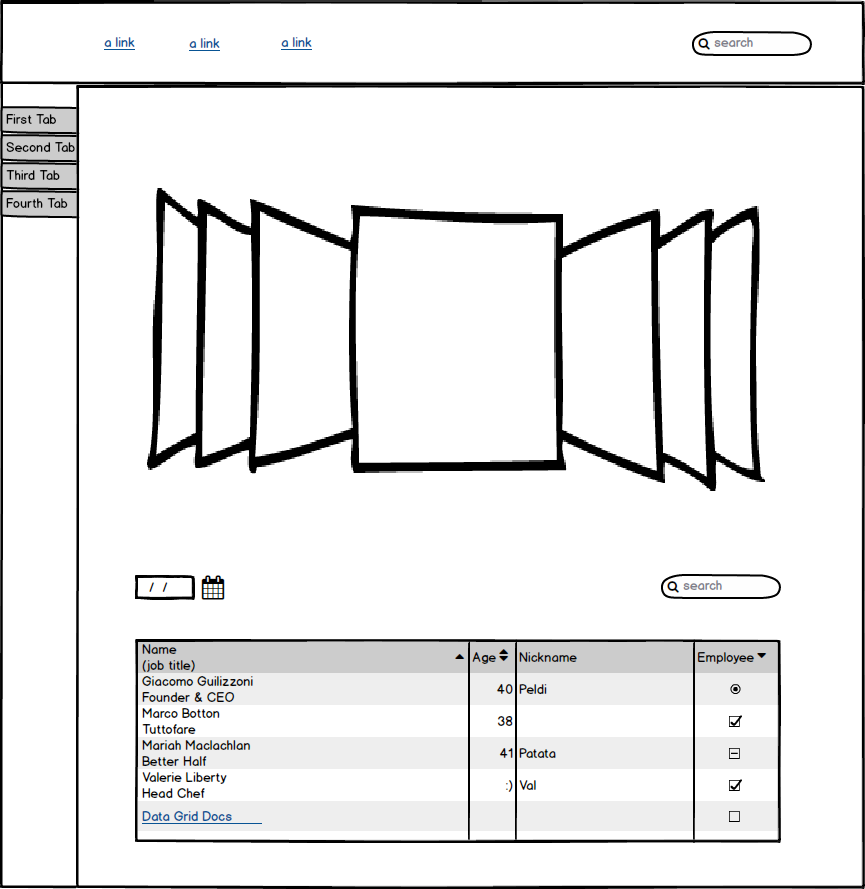date_picker: (129, 570, 234, 609)
navlink: (83, 23, 143, 58), (272, 31, 330, 62), (184, 25, 230, 62)
search: (653, 567, 790, 609), (687, 23, 820, 61)
sidebar: (3, 98, 86, 217)
slideshow: (138, 177, 783, 500)
table: (132, 633, 788, 850)
